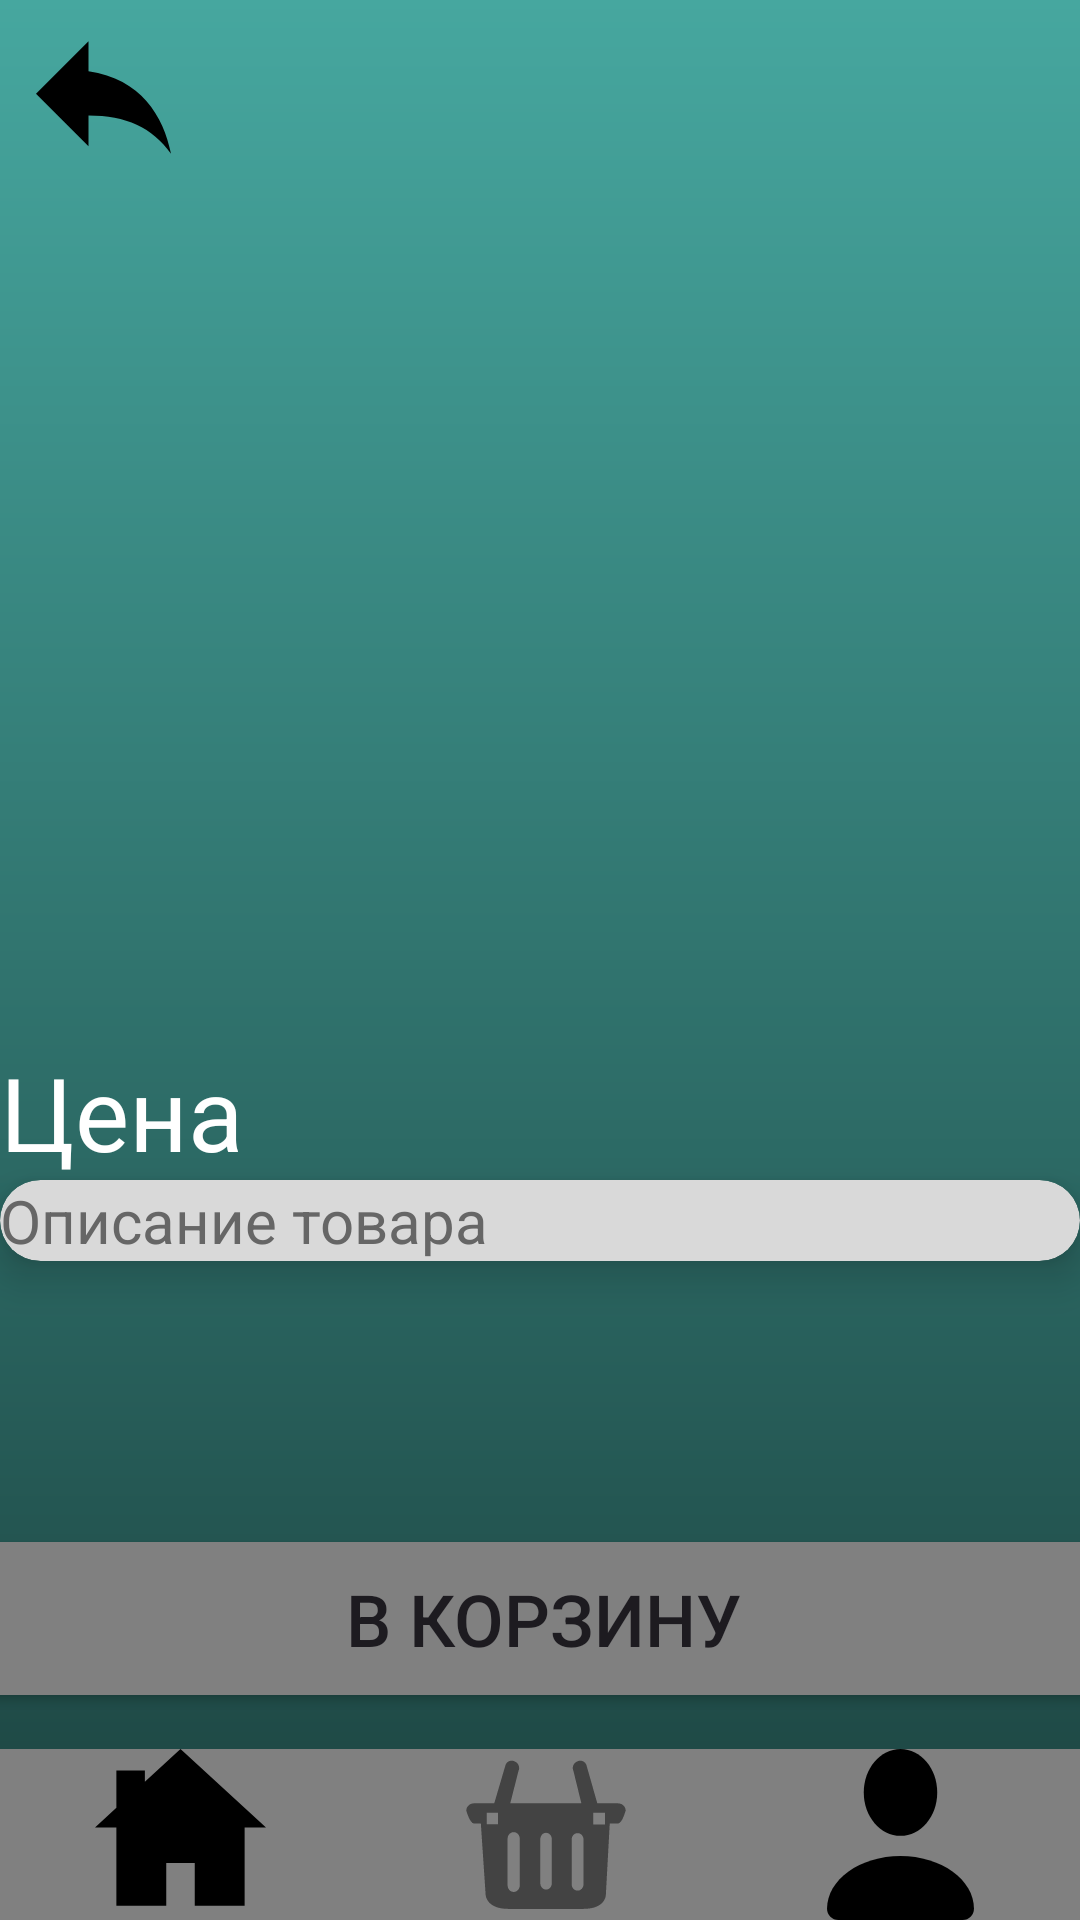

Icon bounding boxes for this 1080x1920 phone screenshot, format {"x1": x1, "y1": y1, "x2": x2, "y2": y2}:
back arrow: {"x1": 36, "y1": 41, "x2": 171, "y2": 154}
basket: {"x1": 466, "y1": 1761, "x2": 626, "y2": 1909}
home: {"x1": 95, "y1": 1749, "x2": 266, "y2": 1906}
